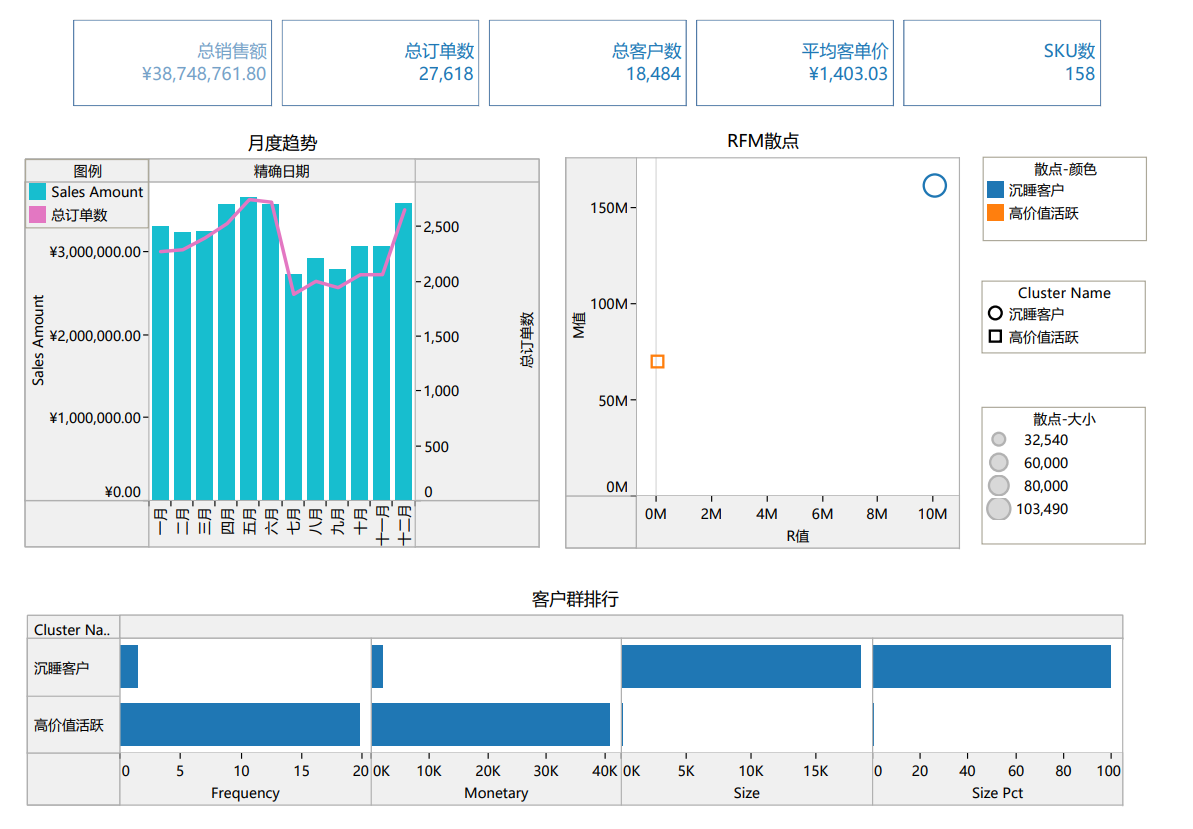

The page's visual inventory and layout, read from the dashboard file:
{"tool":"tableau","page":{"name":"仪表板 1","canvas":[1024,768],"ordinal":0},"visuals":[{"type":"worksheet","title":"KPI1","mark":"Automatic","box":[91,30,180,83]},{"type":"worksheet","title":"KPI2","mark":"Automatic","box":[271,30,179,83]},{"type":"worksheet","title":"KPI3","mark":"Automatic","box":[450,30,179,83]},{"type":"worksheet","title":"KPI4","mark":"Automatic","box":[629,30,179,83]},{"type":"worksheet","title":"KPI5","mark":"Automatic","box":[808,30,179,83]},{"type":"worksheet","title":"RFM散点","mark":"Automatic","rows":["Calculation_1388695024951303"],"cols":["Calculation_1388695024824326"],"box":[520,126,341,365]},{"type":"worksheet","title":"月度趋势","mark":"Bar","rows":["sales_amount","Calculation_1388695002624000"],"cols":["Calculation_1388695020838917"],"box":[53,127,445,363]},{"type":"legend","title":"RFM散点","param":"[federated.0g28w3u15fkhma17esbgp19w8hrz].[usr:Calculation_1388695025225737:nk]","box":[880,152,142,73]},{"type":"legend","title":"月度趋势","param":"[federated.0g28w3u15fkhma17esbgp19w8hrz].[:Measure Names]","box":[53,154,107,60]},{"type":"legend","title":"RFM散点","param":"[federated.0g28w3u15fkhma17esbgp19w8hrz].[none:cluster_name:nk]","box":[879,259,142,63]},{"type":"legend","title":"RFM散点","param":"[federated.0g28w3u15fkhma17esbgp19w8hrz].[usr:Calculation_1388695025340426:qk]","box":[879,368,142,119]},{"type":"worksheet","title":"客户群排行","mark":"Automatic","rows":["cluster_name"],"cols":["frequency","monetary","size","size_pct"],"box":[55,521,947,192]}]}

Visuals, with their boxes on the page's 1024x768 design canvas (x1, y1, x2, y2). These are canvas units, not pixel positions in the 1193x829 screenshot, which may show the page scaled, cropped or inside an application window:
"KPI1" worksheet: region(91, 30, 271, 113)
"KPI2" worksheet: region(271, 30, 450, 113)
"KPI3" worksheet: region(450, 30, 629, 113)
"KPI4" worksheet: region(629, 30, 808, 113)
"KPI5" worksheet: region(808, 30, 987, 113)
"RFM散点" worksheet: region(520, 126, 861, 491)
"月度趋势" worksheet (Bar marks): region(53, 127, 498, 490)
"RFM散点" legend: region(880, 152, 1022, 225)
"月度趋势" legend: region(53, 154, 160, 214)
"RFM散点" legend: region(879, 259, 1021, 322)
"RFM散点" legend: region(879, 368, 1021, 487)
"客户群排行" worksheet: region(55, 521, 1002, 713)
